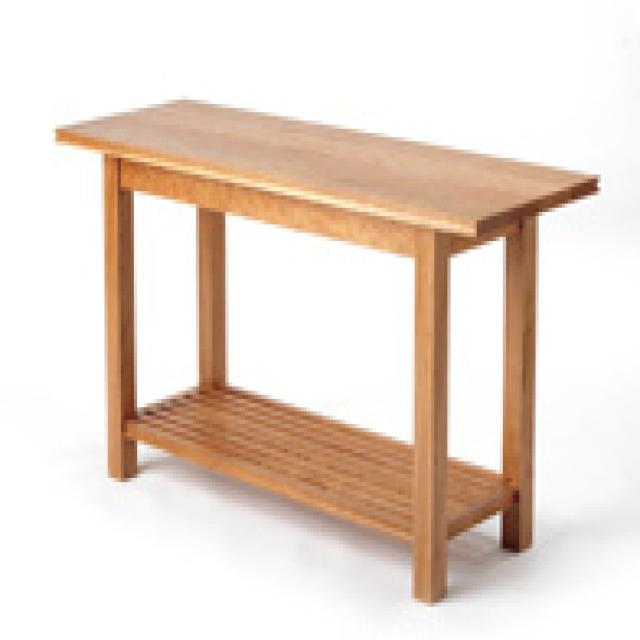table: (51, 89, 604, 608)
